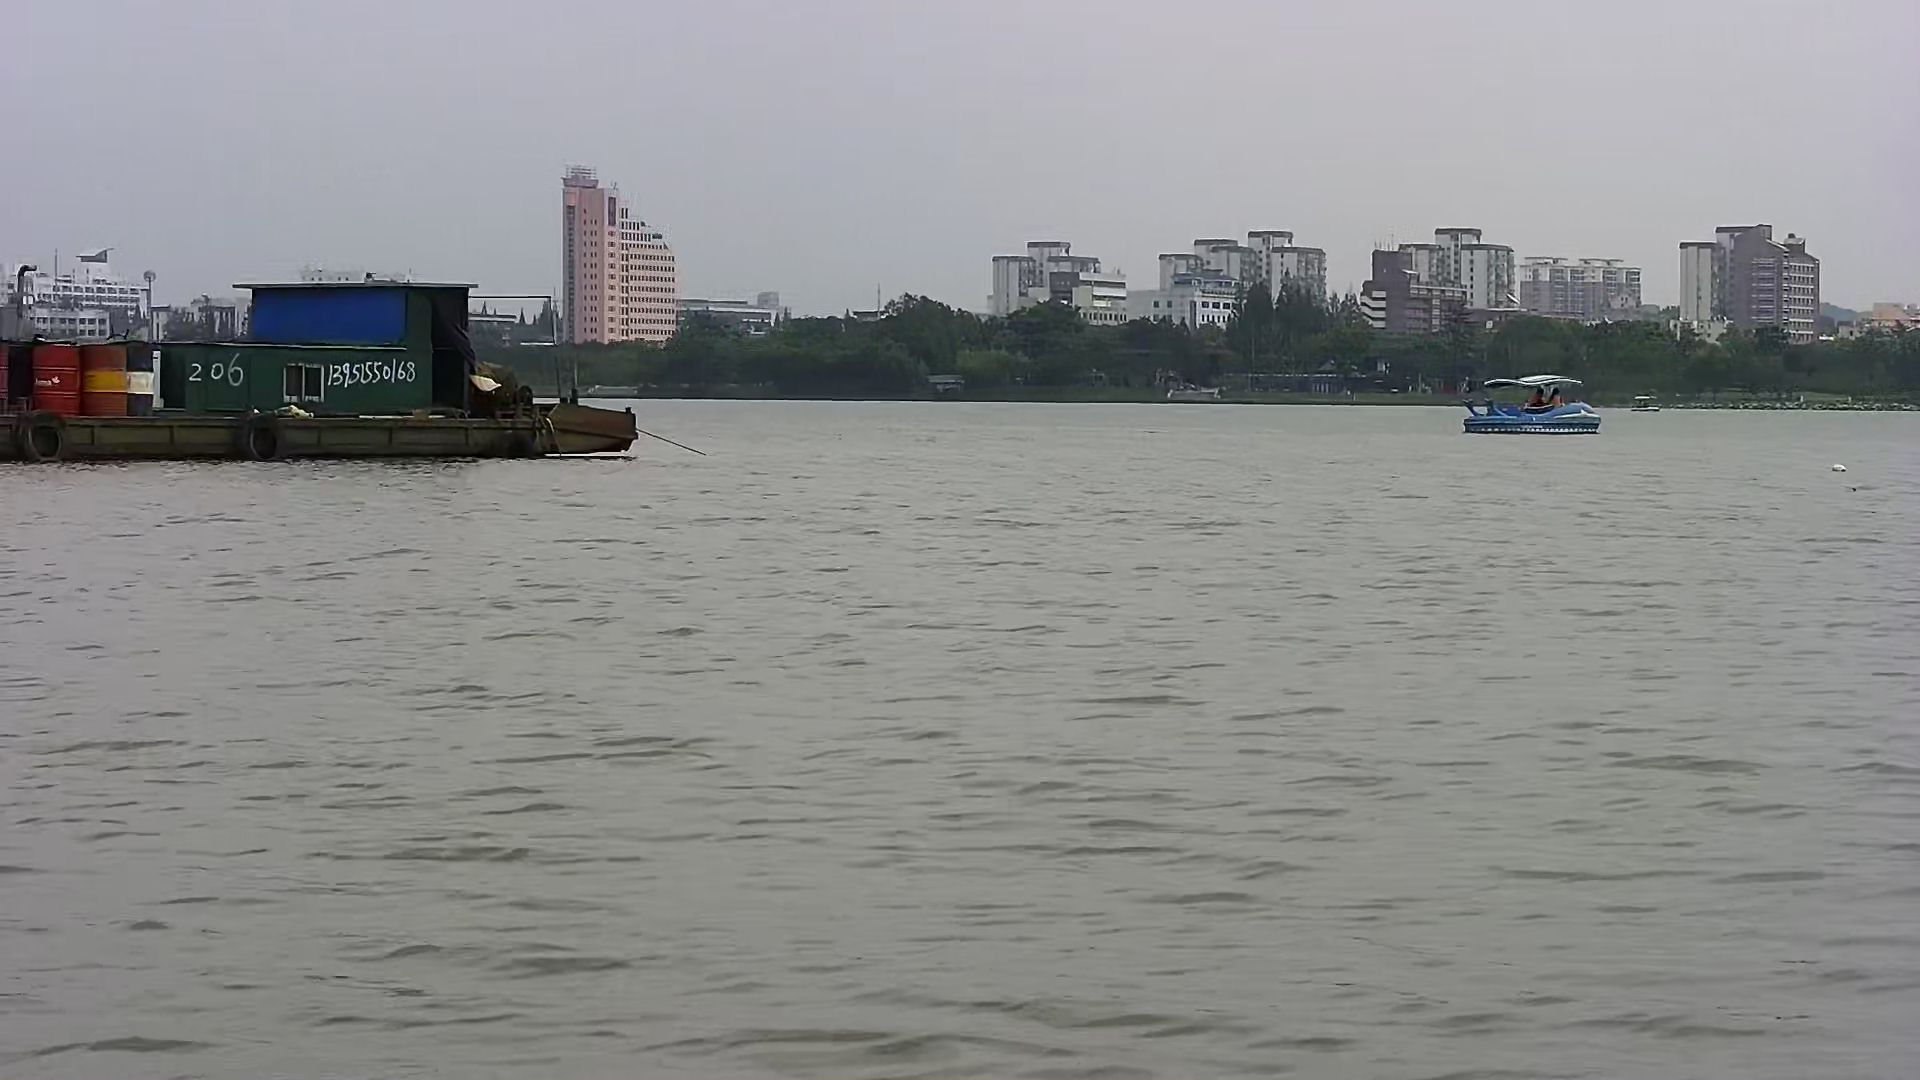boat: (1458, 372, 1601, 439)
harbor: (20, 276, 640, 465)
